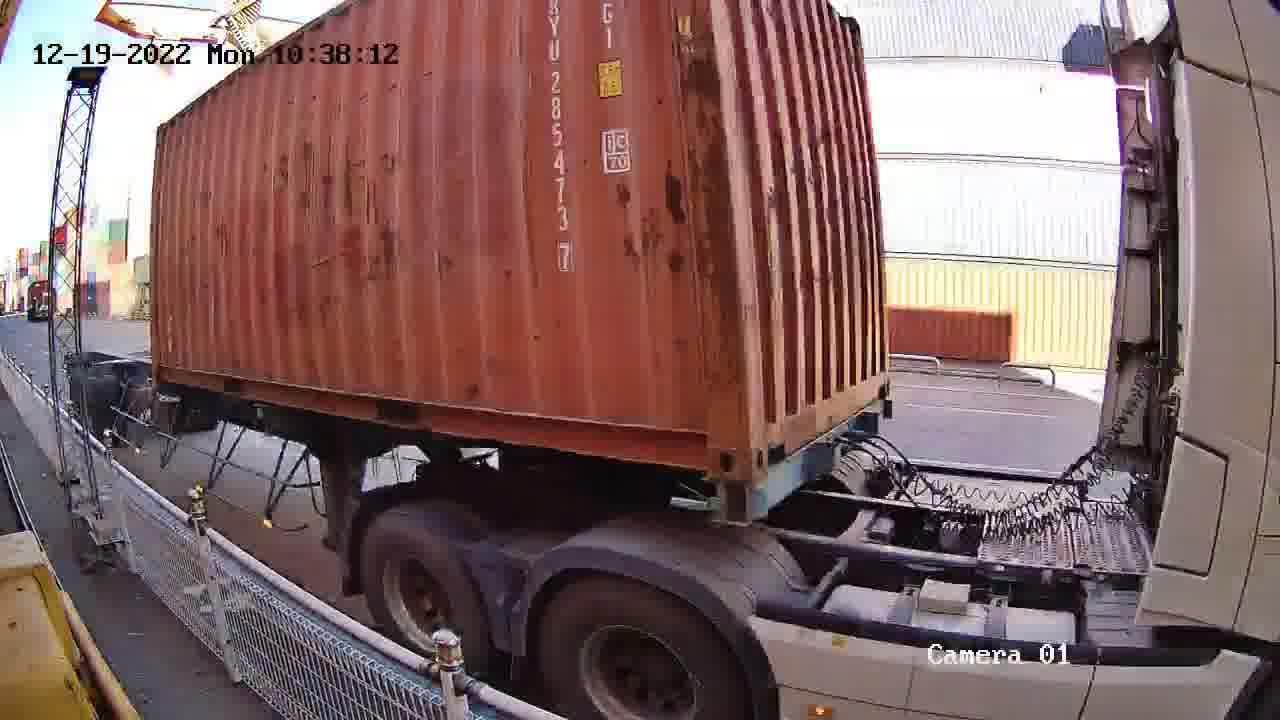Chassis: (709, 397, 886, 521)
Cone: (710, 483, 752, 521)
Hole_L: (749, 395, 791, 480)
Hole_R: (675, 408, 749, 479), (869, 349, 892, 401)
Tire: (540, 576, 735, 719), (363, 528, 484, 668)
